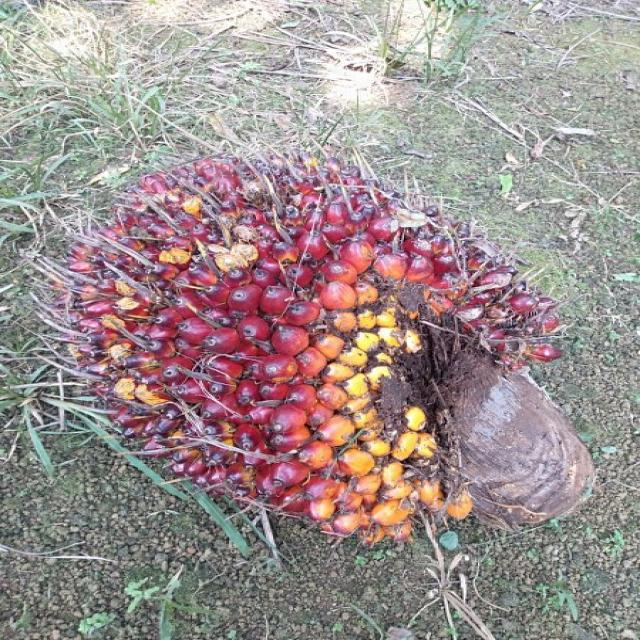fraksi 1: (27, 101, 578, 582)
